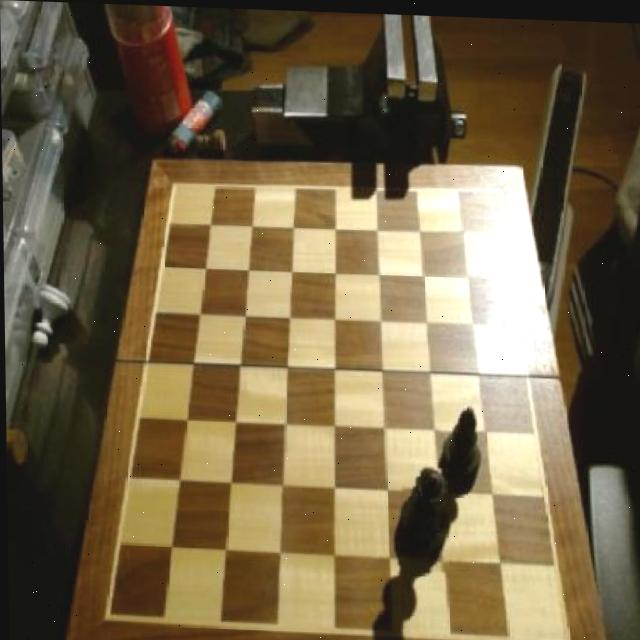bishop: (438, 401, 482, 491)
black-pawn: (396, 461, 450, 568)
